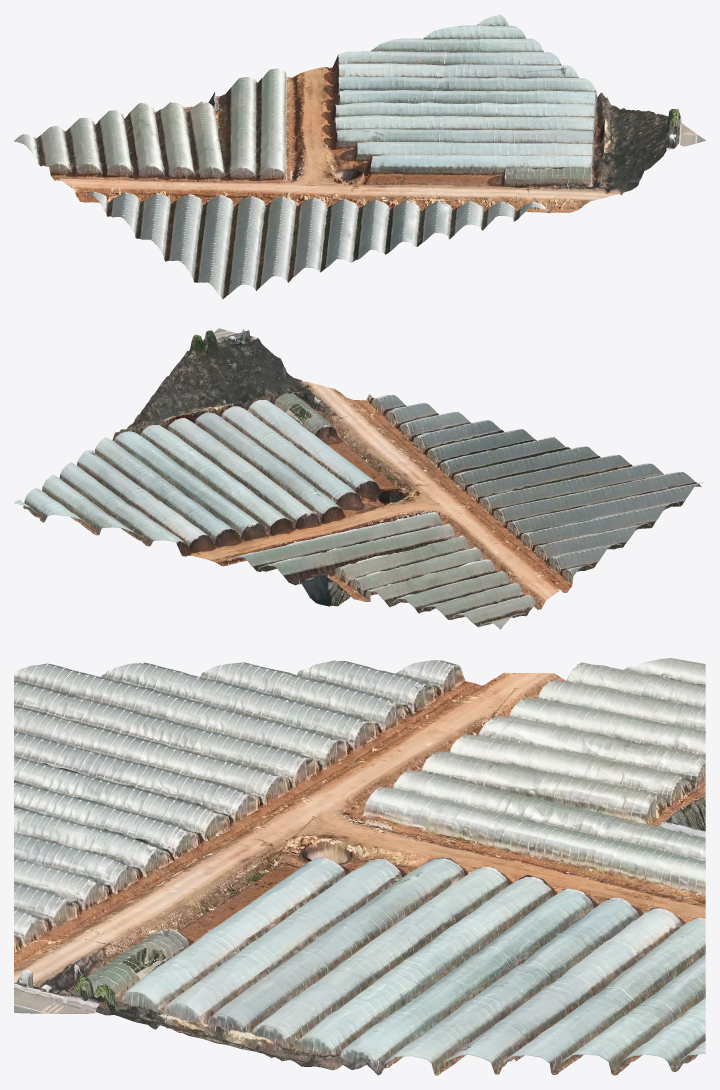
The model's file is BlockBB_L18_7.glb.
3 renders of one model, top to bottom at view 1: azimuth 30°, elevation 25°; view 2: azimuth 150°, elevation 25°; view 3: azimuth 270°, elevation 25°, orthographic. The views are drawn at different scales.
Parts seen in each view (by area): view 1: rtc; view 2: rtc; view 3: rtc.
Boxes of the visible parts, box(x1,y1,x2,y2) form: rtc: box(14, 14, 705, 299); rtc: box(14, 328, 705, 629); rtc: box(14, 658, 705, 1075).
Bounding box in the file's own units: 97.84 × 12.87 × 71.4.
4 materials, 4 textured.
